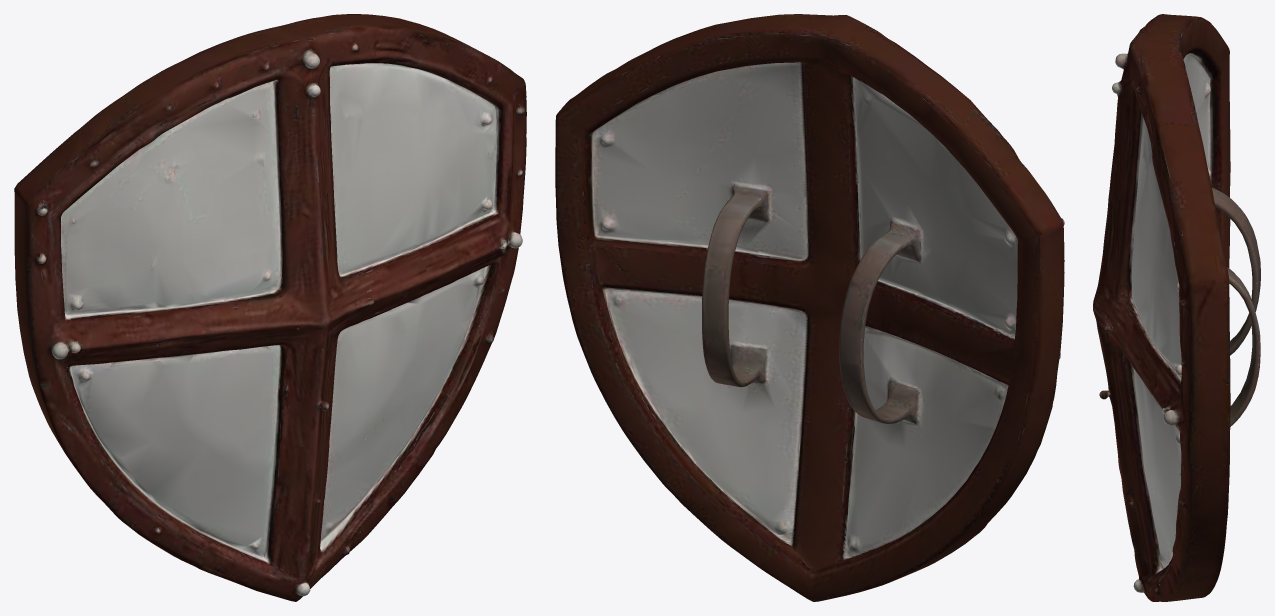
Rendered from comum-escudo.glb.
The picture shows the model from 3 angles, left to right: view 1: azimuth 30°, elevation 25°; view 2: azimuth 150°, elevation 25°; view 3: azimuth 270°, elevation 25°; orthographic projection.
Parts seen in each view (by area): view 1: tripo_node_2cada63e-9311-493c-833e-be97e5f5b995; view 2: tripo_node_2cada63e-9311-493c-833e-be97e5f5b995; view 3: tripo_node_2cada63e-9311-493c-833e-be97e5f5b995.
Boxes of the visible parts, bbox=[...] form: tripo_node_2cada63e-9311-493c-833e-be97e5f5b995: bbox=[14, 14, 526, 601]; tripo_node_2cada63e-9311-493c-833e-be97e5f5b995: bbox=[555, 14, 1064, 601]; tripo_node_2cada63e-9311-493c-833e-be97e5f5b995: bbox=[1093, 14, 1260, 601].
Bounding box in the file's own units: 0.8965 × 0.9764 × 0.2659.
Materials: 1 (1 with a texture image).
